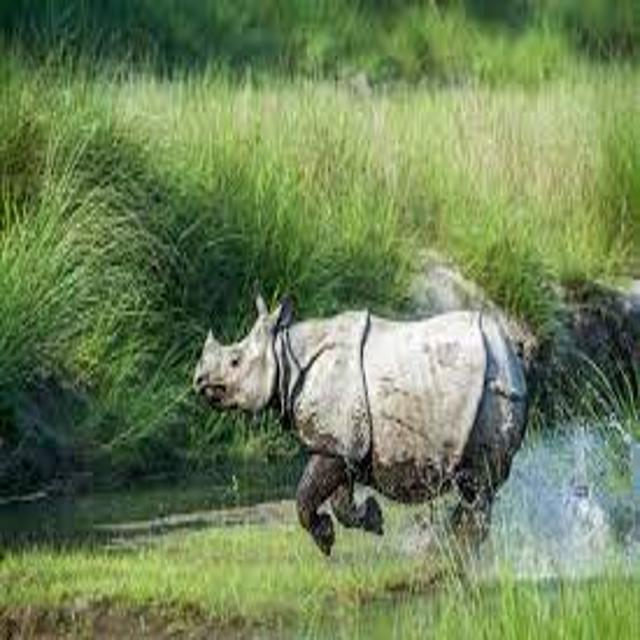Rinoceros: (172, 262, 578, 566)
